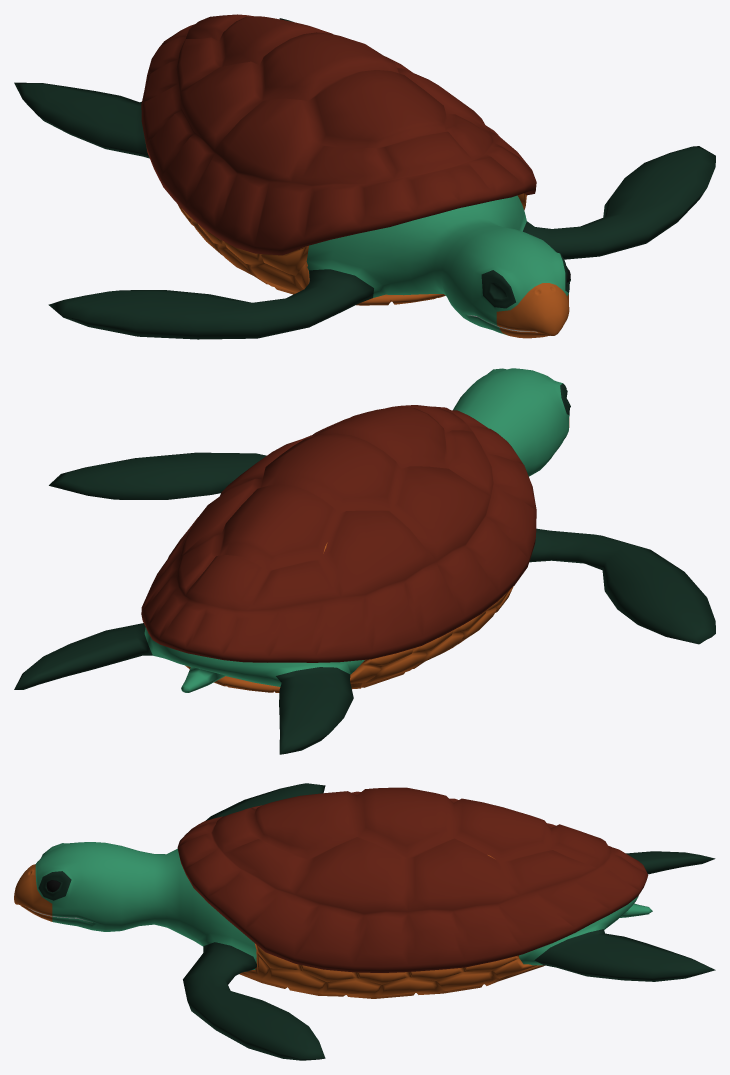
Rendered from turtle.obj.
The picture shows the model from 3 angles, top to bottom: view 1: azimuth 30°, elevation 25°; view 2: azimuth 150°, elevation 25°; view 3: azimuth 270°, elevation 25°; orthographic projection. The views are drawn at different scales.
Parts seen in each view (by area): view 1: turtle_shell, turtle; view 2: turtle_shell, turtle; view 3: turtle_shell, turtle.
Part boxes in pixels (left/top/right/bottom): turtle_shell: left=141, top=14, right=536, bottom=305; turtle: left=14, top=18, right=715, bottom=339; turtle_shell: left=141, top=405, right=536, bottom=692; turtle: left=14, top=368, right=715, bottom=754; turtle_shell: left=177, top=787, right=648, bottom=998; turtle: left=14, top=783, right=715, bottom=1060.
Size of the model in its own units: 0.9992 by 0.2953 by 1.08.
